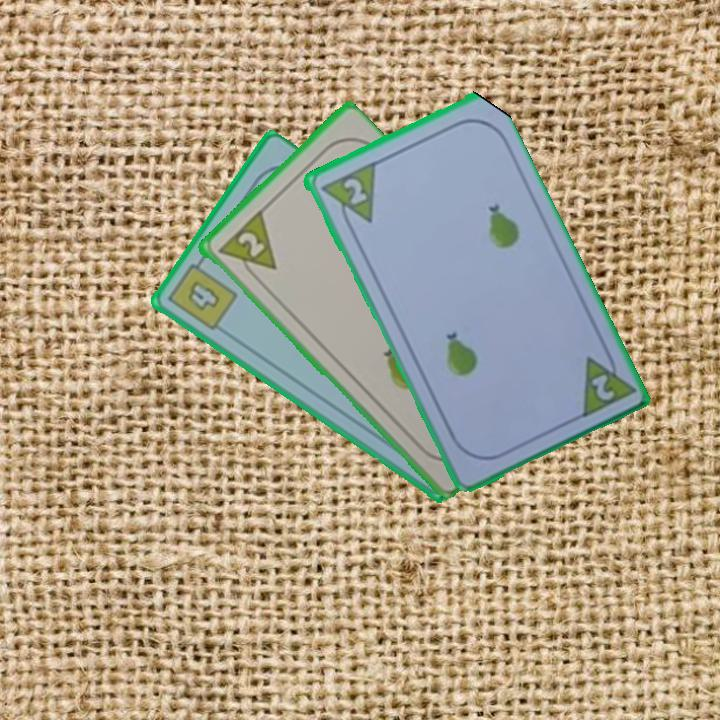2p: (213, 208, 279, 287), (575, 342, 636, 422), (316, 158, 379, 234)
4b: (164, 253, 241, 334)
